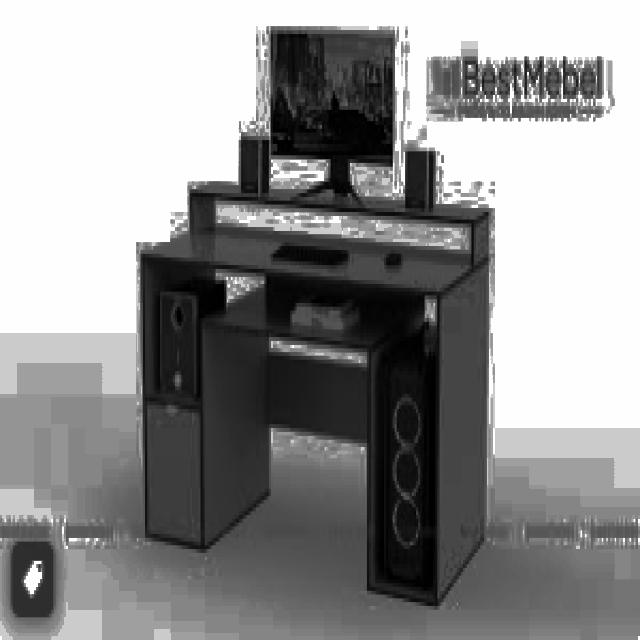table: (138, 182, 488, 606)
